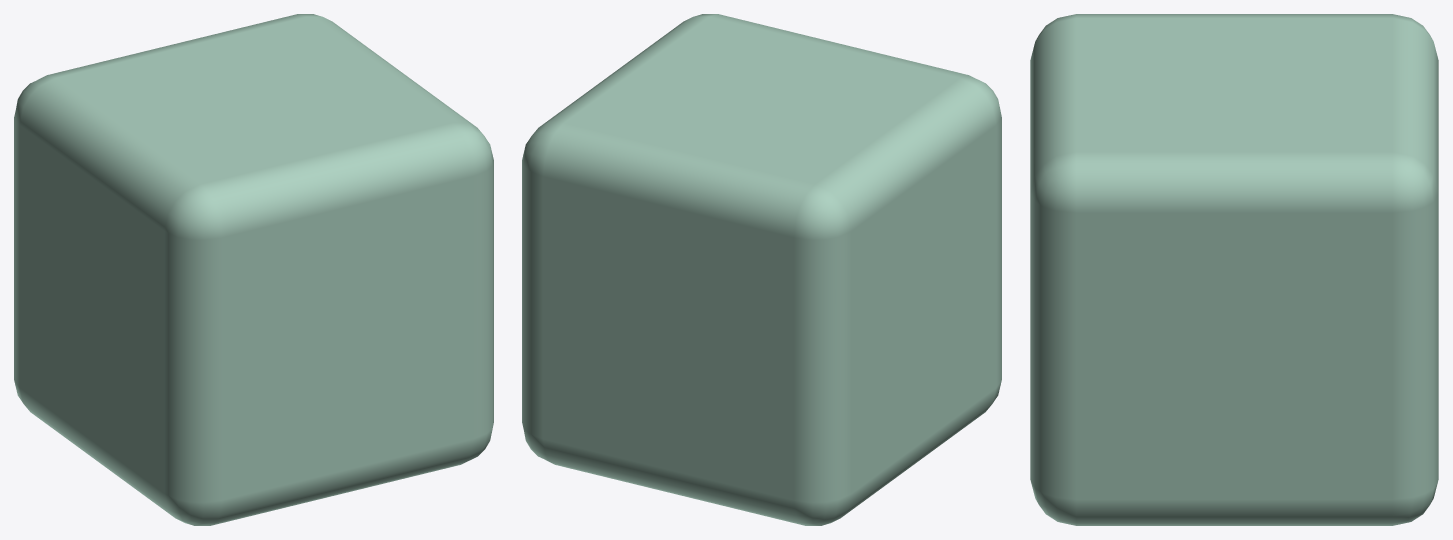
File: building-block.glb
The picture shows the model from 3 angles, left to right: view 1: azimuth 30°, elevation 25°; view 2: azimuth 150°, elevation 25°; view 3: azimuth 270°, elevation 25°; orthographic projection. The views are drawn at different scales.
Visible parts, largest first — view 1: Block_rounded_cube; view 2: Block_rounded_cube; view 3: Block_rounded_cube.
Boxes of the visible parts, x1,y1,x2,y2 form: Block_rounded_cube: (14,14,493,525); Block_rounded_cube: (522,14,1001,525); Block_rounded_cube: (1030,14,1438,525).
Bounding box in the file's own units: 0.31 × 0.31 × 0.31.
